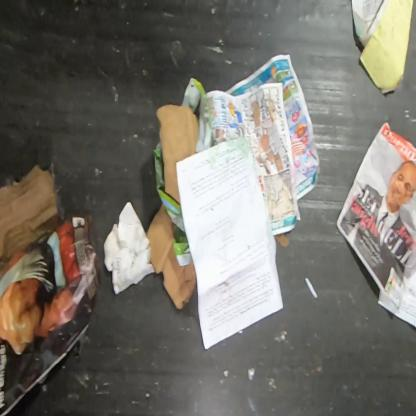cardboard: (146, 104, 200, 310), (0, 163, 64, 274)
